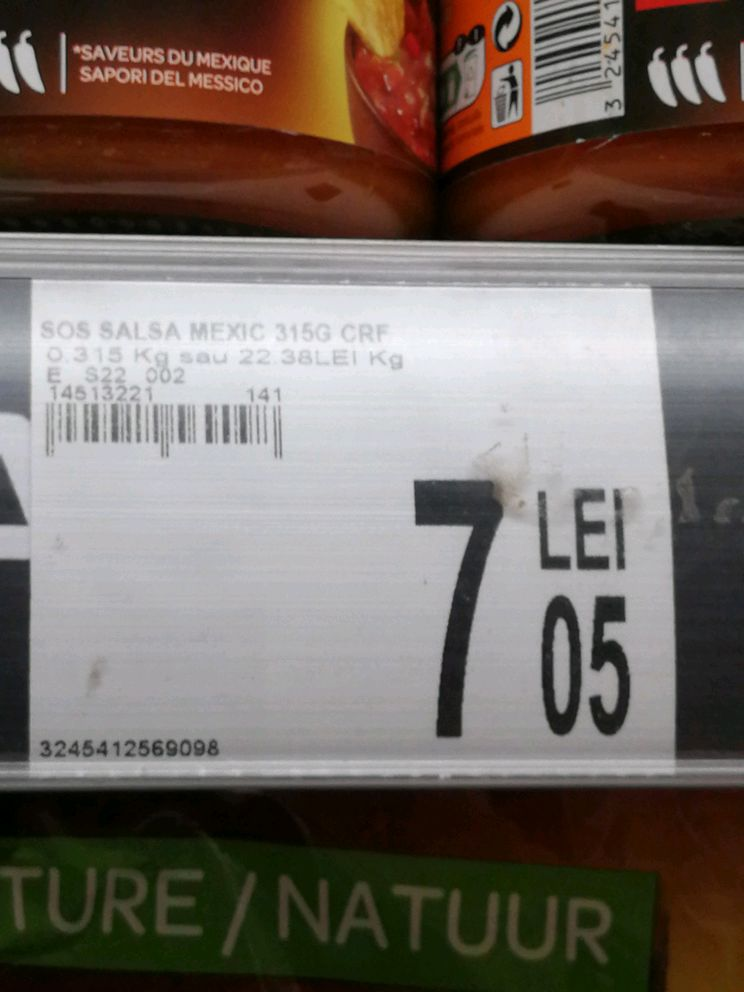price_bani: (528, 584, 646, 746)
price_lei: (389, 471, 517, 751)
price_tag: (1, 253, 723, 798)
product_id: (33, 728, 238, 772)
product_name: (19, 311, 420, 347)
